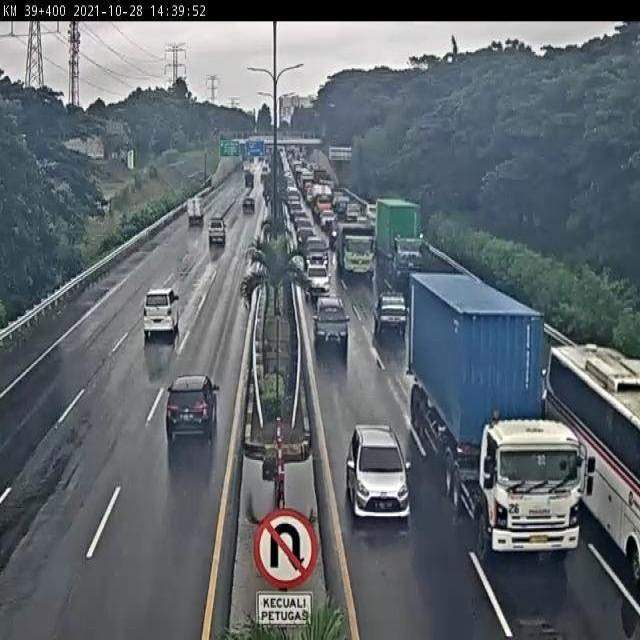car: (346, 423, 407, 516), (167, 375, 216, 436), (502, 339, 535, 396), (315, 296, 350, 345), (144, 290, 179, 338), (373, 292, 408, 335), (302, 232, 327, 263), (304, 259, 329, 285), (208, 219, 226, 245), (295, 226, 314, 246)
truck: (406, 270, 569, 534), (536, 332, 640, 568), (377, 194, 425, 274), (337, 224, 374, 277), (186, 195, 207, 227)
